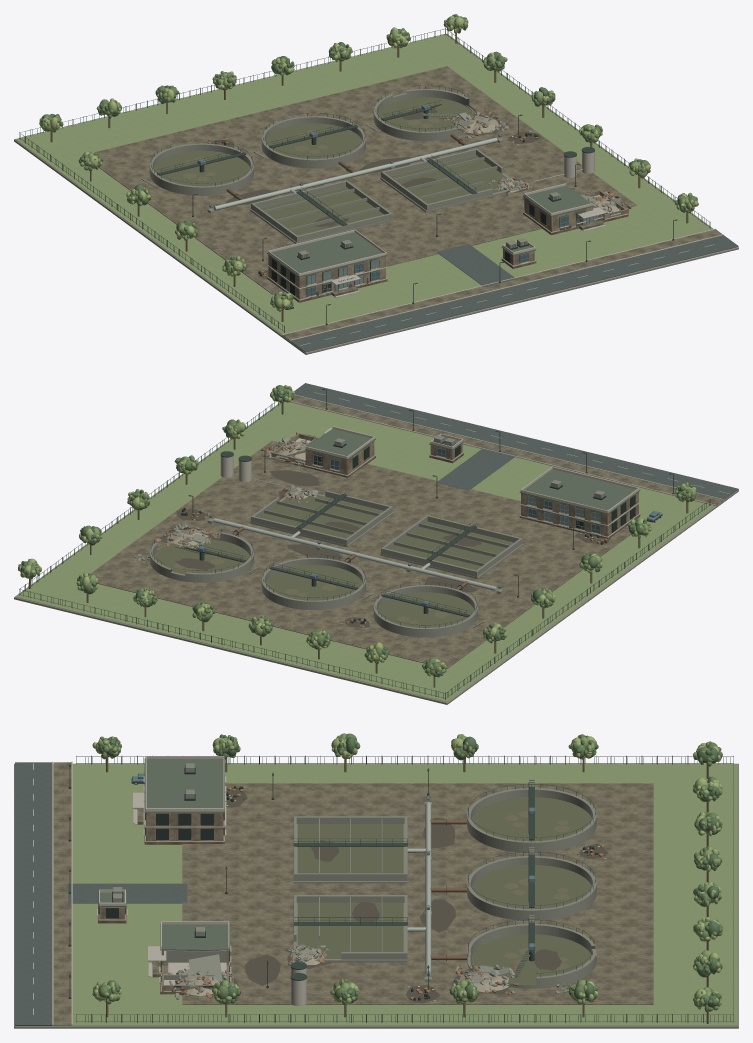
The model's file is waterworks-abandoned.glb.
3 renders of one model, top to bottom at view 1: azimuth 30°, elevation 25°; view 2: azimuth 150°, elevation 25°; view 3: azimuth 270°, elevation 25°, orthographic. The views are drawn at different scales.
Parts seen in each view (by area): view 1: 材质批次_grass, 材质批次_plaza_paving, 材质批次_poi_service_concrete, 材质批次_waterworks_water, 材质批次_asphalt, 材质批次_street_metal, 材质批次_warm_cream_trim, 材质批次_sage_metal_roof, 材质批次_limestone, 材质批次_leaf_2, 材质批次_leaf_0, 材质批次_leaf_1 (+9 smaller); view 2: 材质批次_plaza_paving, 材质批次_grass, 材质批次_poi_service_concrete, 材质批次_waterworks_water, 材质批次_asphalt, 材质批次_street_metal, 材质批次_warm_cream_trim, 材质批次_sage_metal_roof, 材质批次_abandoned_soot_damp, 材质批次_limestone, 材质批次_leaf_1, 材质批次_leaf_2 (+9 smaller); view 3: 材质批次_plaza_paving, 材质批次_grass, 材质批次_poi_service_concrete, 材质批次_waterworks_water, 材质批次_asphalt, 材质批次_street_metal, 材质批次_sage_metal_roof, 材质批次_warm_cream_trim, 材质批次_abandoned_soot_damp, 材质批次_leaf_1, 材质批次_leaf_3, 材质批次_leaf_2 (+10 smaller).
Part boxes in pixels (box(x1,y1,x2,y2)): 材质批次_grass: box(15, 34, 712, 334); 材质批次_plaza_paving: box(95, 66, 722, 340); 材质批次_poi_service_concrete: box(14, 35, 738, 354); 材质批次_waterworks_water: box(153, 97, 514, 235); 材质批次_asphalt: box(290, 235, 738, 352); 材质批次_street_metal: box(19, 28, 710, 332); 材质批次_warm_cream_trim: box(226, 131, 723, 340); 材质批次_sage_metal_roof: box(267, 113, 593, 277); 材质批次_limestone: box(268, 190, 627, 299); 材质批次_leaf_2: box(39, 15, 698, 311); 材质批次_leaf_0: box(40, 16, 697, 308); 材质批次_leaf_1: box(40, 14, 698, 310); 材质批次_plaza_paving: box(90, 395, 723, 668); 材质批次_grass: box(15, 402, 714, 702); 材质批次_poi_service_concrete: box(14, 403, 738, 704); 材质批次_waterworks_water: box(154, 495, 513, 627); 材质批次_asphalt: box(294, 383, 738, 499); 材质批次_street_metal: box(19, 388, 710, 699); 材质批次_warm_cream_trim: box(175, 394, 723, 626); 材质批次_sage_metal_roof: box(174, 428, 640, 555); 材质批次_abandoned_soot_damp: box(159, 443, 610, 627); 材质批次_limestone: box(271, 433, 638, 536); 材质批次_leaf_1: box(18, 385, 694, 676); 材质批次_leaf_2: box(19, 385, 696, 676); 材质批次_plaza_paving: box(53, 762, 653, 1025); 材质批次_grass: box(52, 763, 737, 1025); 材质批次_poi_service_concrete: box(14, 763, 738, 1028); 材质批次_waterworks_water: box(297, 797, 591, 985); 材质批次_asphalt: box(15, 762, 187, 1025); 材质批次_street_metal: box(68, 755, 733, 1022); 材质批次_sage_metal_roof: box(98, 758, 530, 980); 材质批次_warm_cream_trim: box(52, 756, 606, 1025); 材质批次_abandoned_soot_damp: box(176, 787, 608, 1003); 材质批次_leaf_1: box(93, 733, 722, 1011); 材质批次_leaf_3: box(92, 734, 722, 1011); 材质批次_leaf_2: box(92, 734, 722, 1009).
Bounding box in the file's own units: 122 × 9.05 × 140.
Materials: 33 (5 with a texture image).
